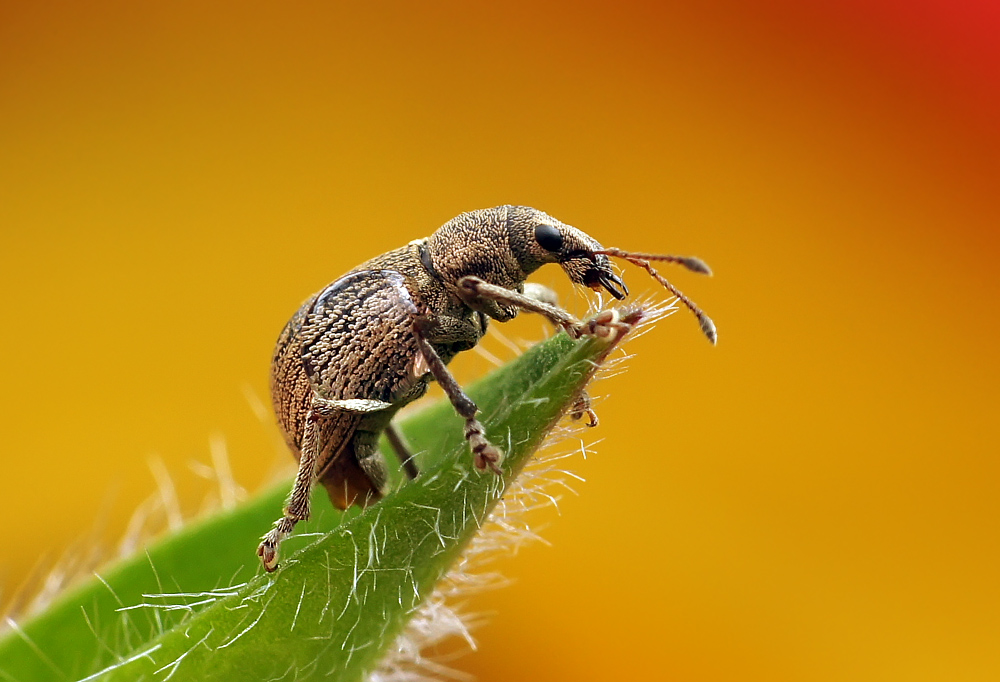dolgonosik: (254, 187, 733, 566)
